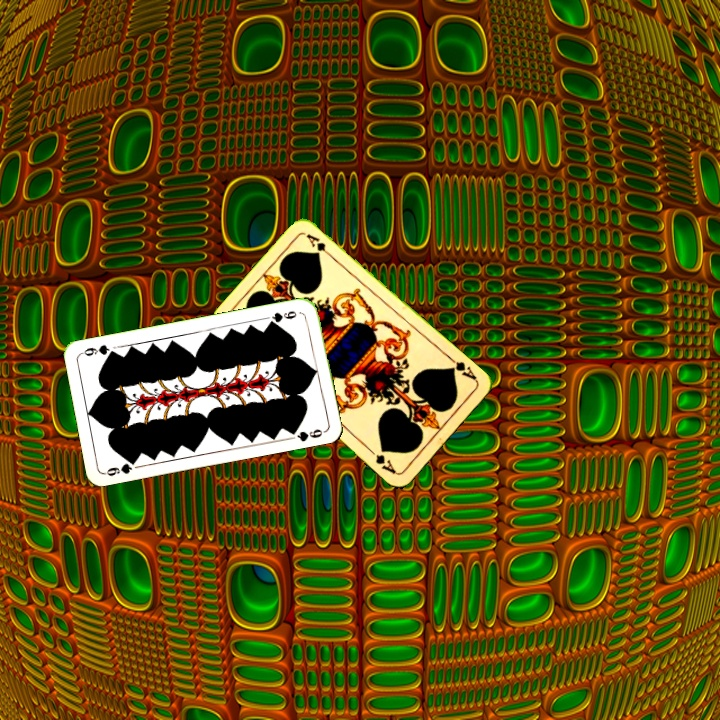G9: (101, 455, 140, 479), (264, 307, 299, 327)
GA: (445, 353, 479, 383)
